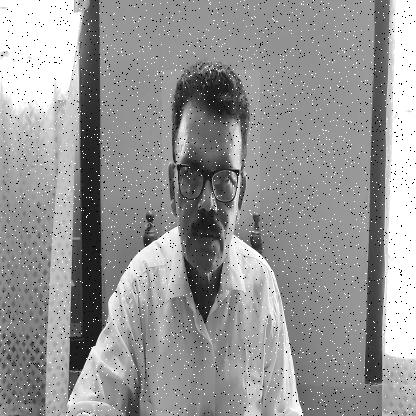Normal: (162, 70, 260, 284)
